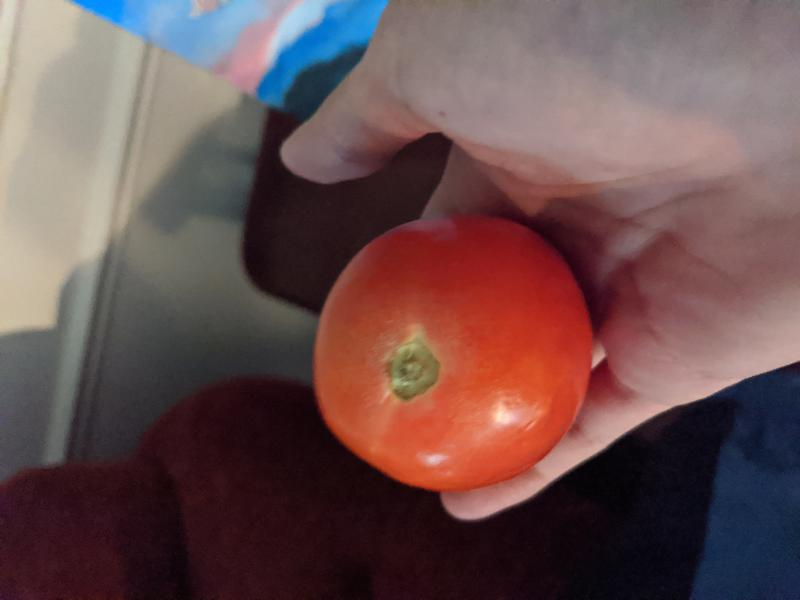tomato: (311, 214, 595, 493)
